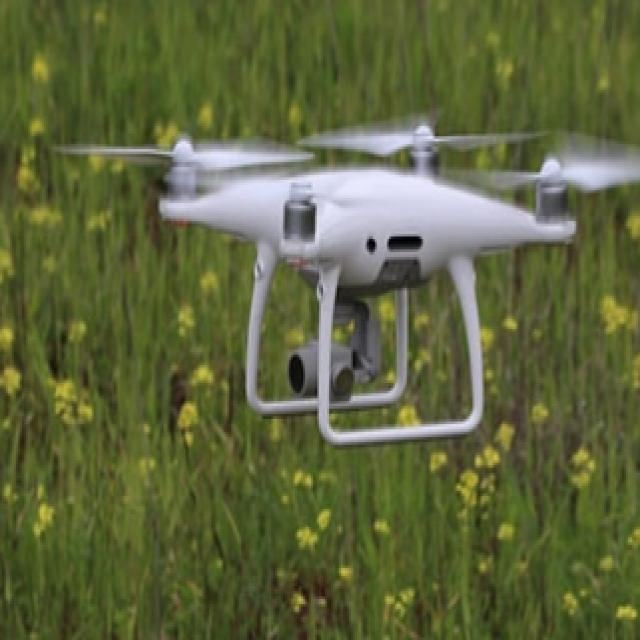drone: (78, 90, 640, 383)
